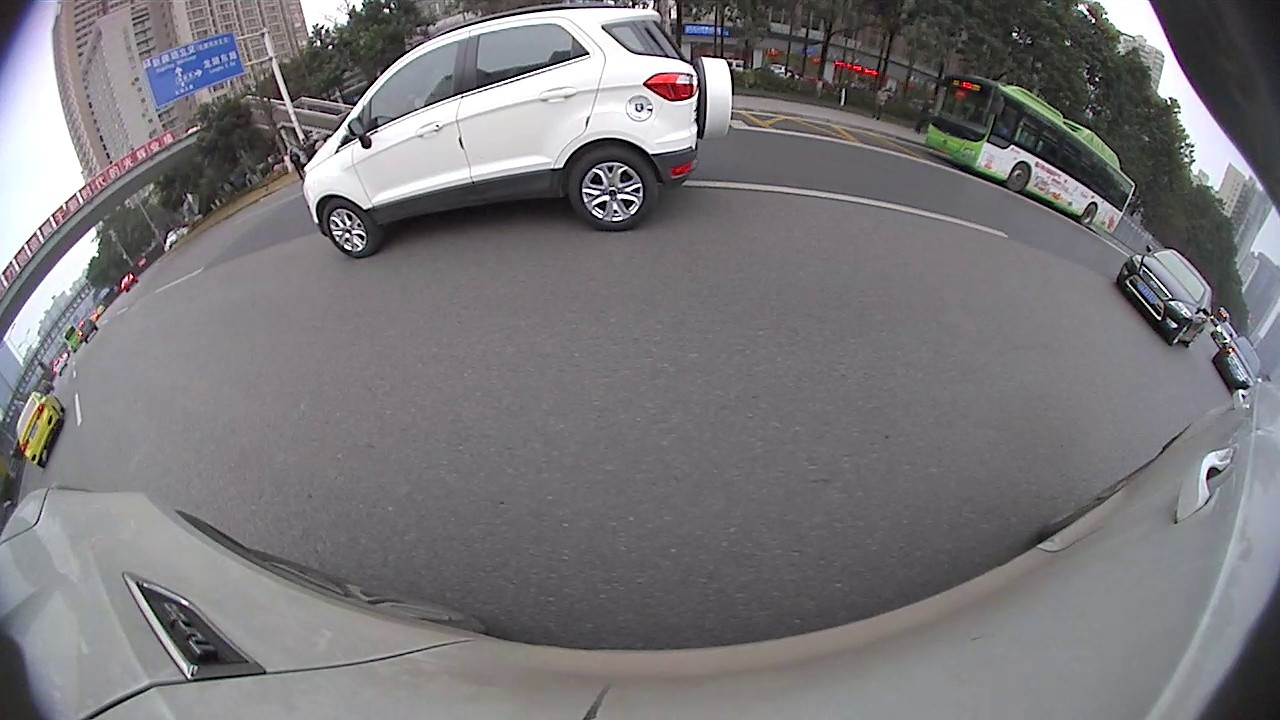bus: (921, 71, 1138, 238)
car: (302, 2, 735, 260), (1114, 247, 1214, 348), (15, 391, 64, 469), (1210, 335, 1263, 396)
front: (318, 203, 378, 251), (1012, 163, 1028, 194)
rear: (564, 148, 655, 228), (1083, 203, 1099, 225)
